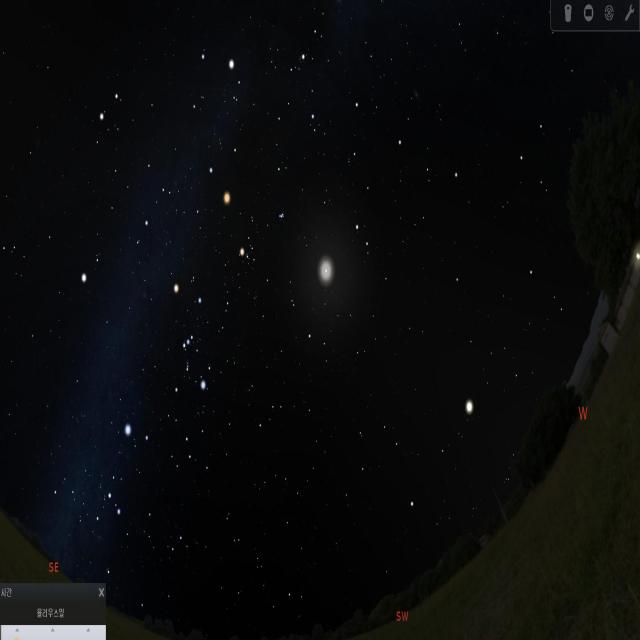canis_major: (106, 423, 148, 522)
canis_minor: (83, 248, 106, 295)
gemini: (97, 70, 189, 256)
moon: (306, 230, 342, 303)
orion: (166, 274, 213, 410)
pleiades: (277, 204, 291, 230)
taurus: (236, 188, 291, 294)
